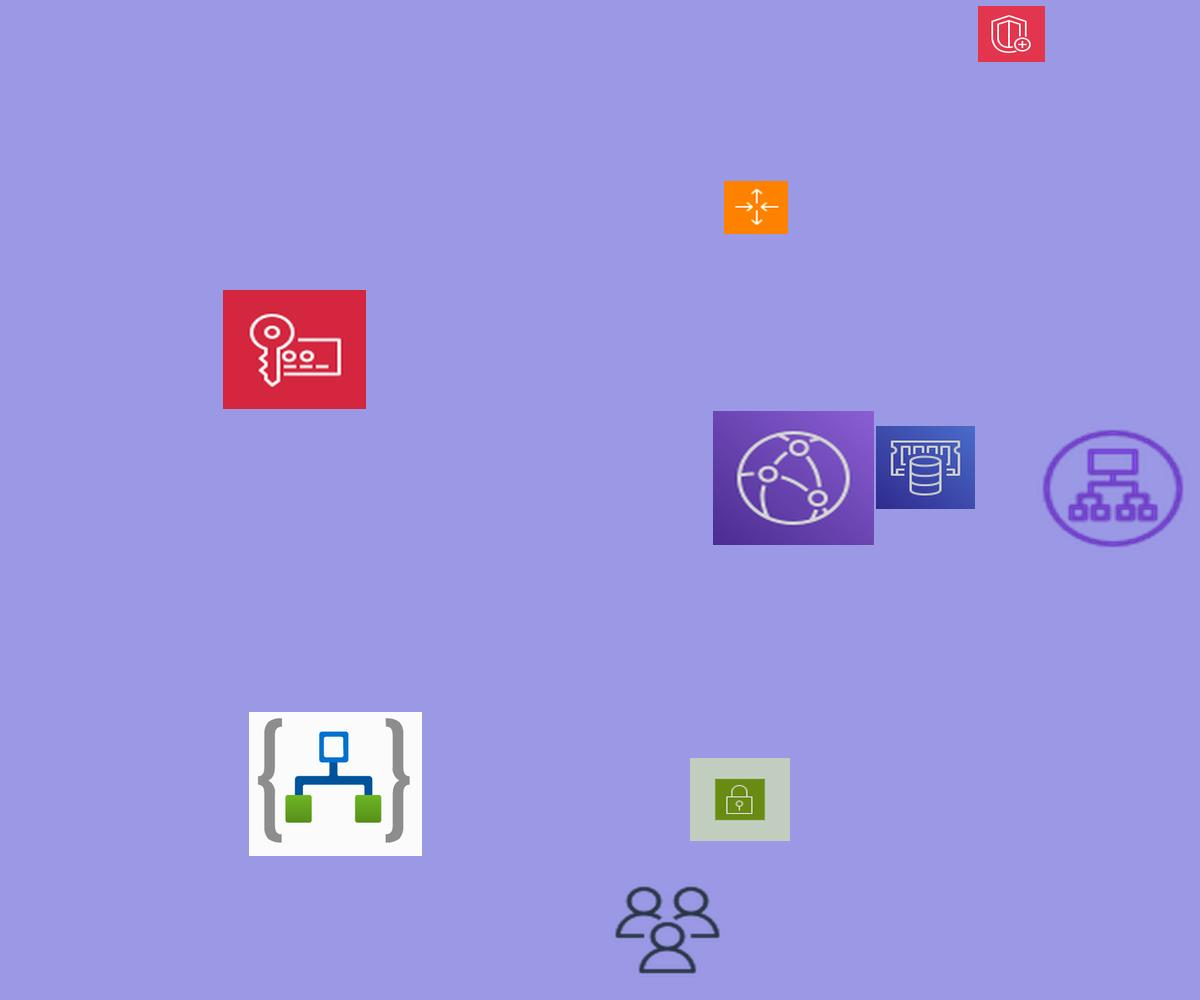AWS-CloudFront: (713, 411, 874, 545)
AWS-ElastiCache: (876, 426, 975, 509)
AWS-Key-Management-Service: (223, 290, 366, 409)
AWS-Public-subnet: (690, 758, 790, 841)
AWS-Res_Elastic-Load-Balancing_Application-Load-Balancer: (1037, 425, 1189, 552)
AWS-Res_Users: (611, 883, 724, 977)
AWS-Scaling-group: (724, 181, 788, 234)
AWS-Shield: (978, 6, 1045, 62)
Azure_integration-204-Logic-Apps: (249, 712, 422, 856)
